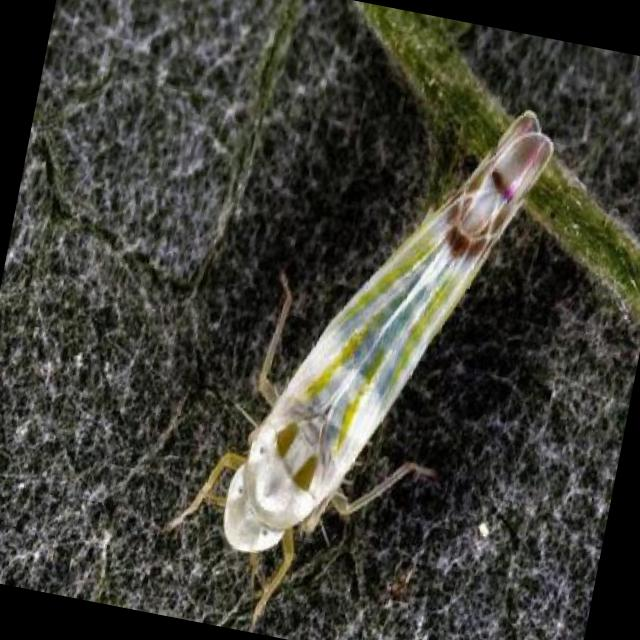green-leafhopper: (161, 109, 552, 629)
